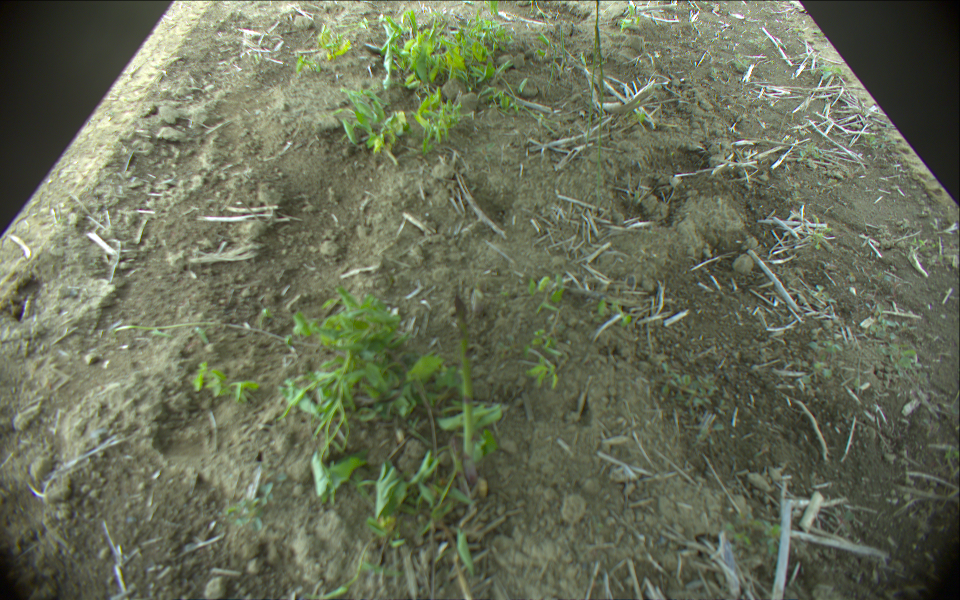aspa: (452, 293, 473, 458), (586, 1, 600, 141), (597, 24, 606, 169)
